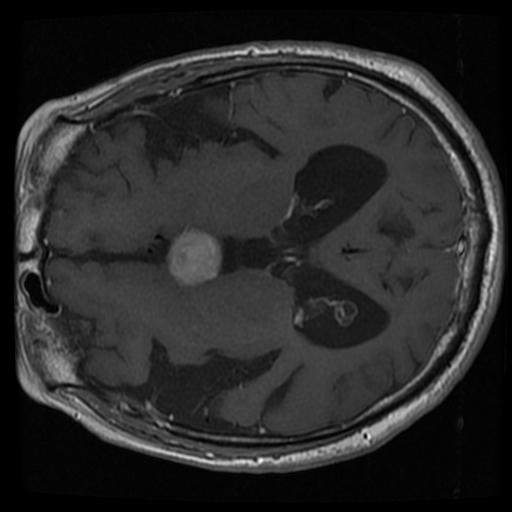pituitary tumour: (164, 228, 222, 287)
